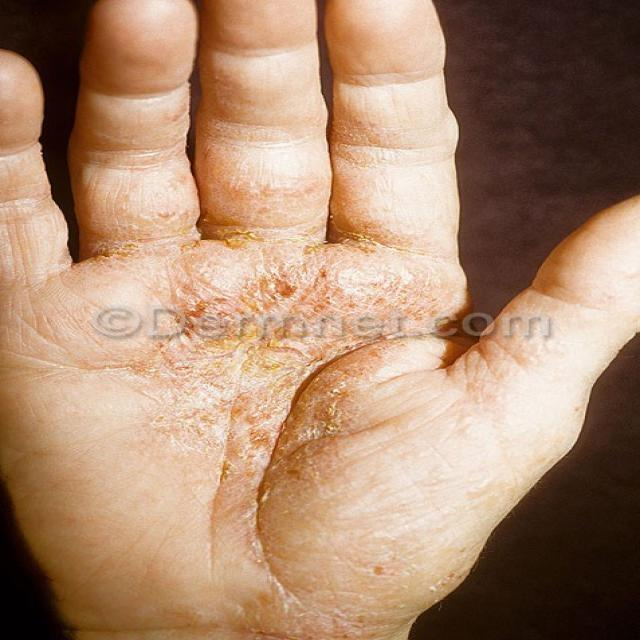Eczema: (99, 194, 446, 596)
